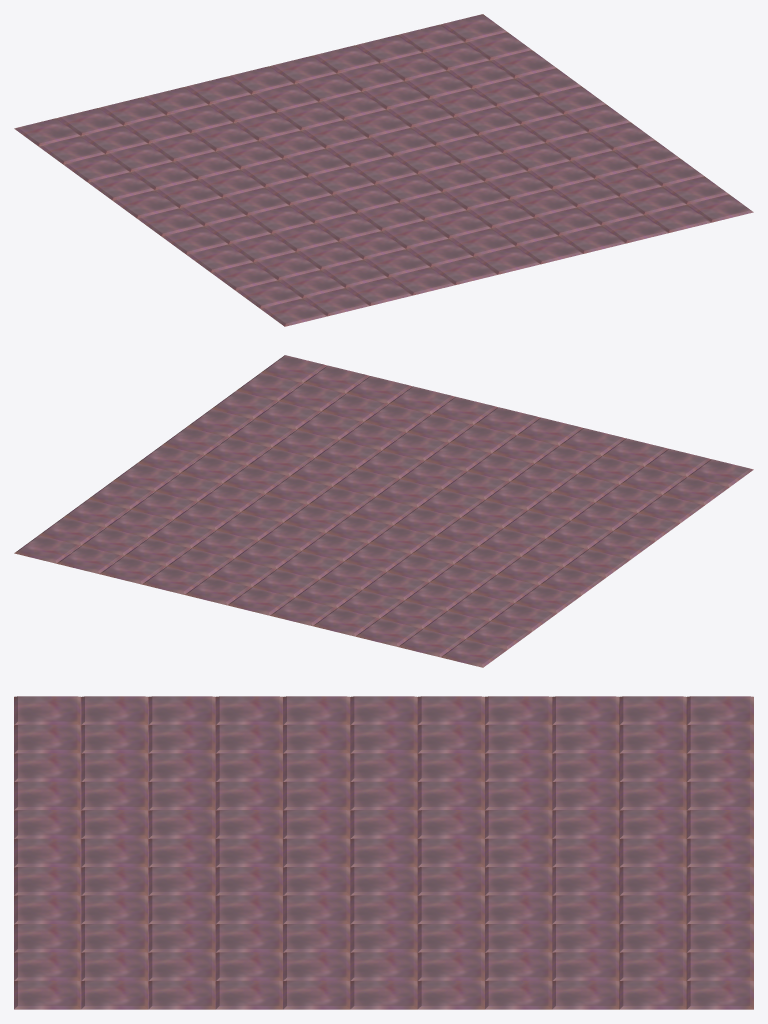
File: chão2.fbx
3 renders of one model, top to bottom at view 1: azimuth 30°, elevation 25°; view 2: azimuth 150°, elevation 25°; view 3: azimuth 270°, elevation 25°, orthographic. The views are drawn at different scales.
Parts seen in each view (by area): view 1: Plane.002; view 2: Plane.002; view 3: Plane.002.
Boxes of the visible parts, box(x1,y1,x2,y2) form: Plane.002: box(14, 14, 753, 326); Plane.002: box(14, 355, 753, 667); Plane.002: box(14, 696, 753, 1009).
Bounding box in the file's own units: 2084 × 6.54 × 2084.
Materials: 1 (1 with a texture image).
